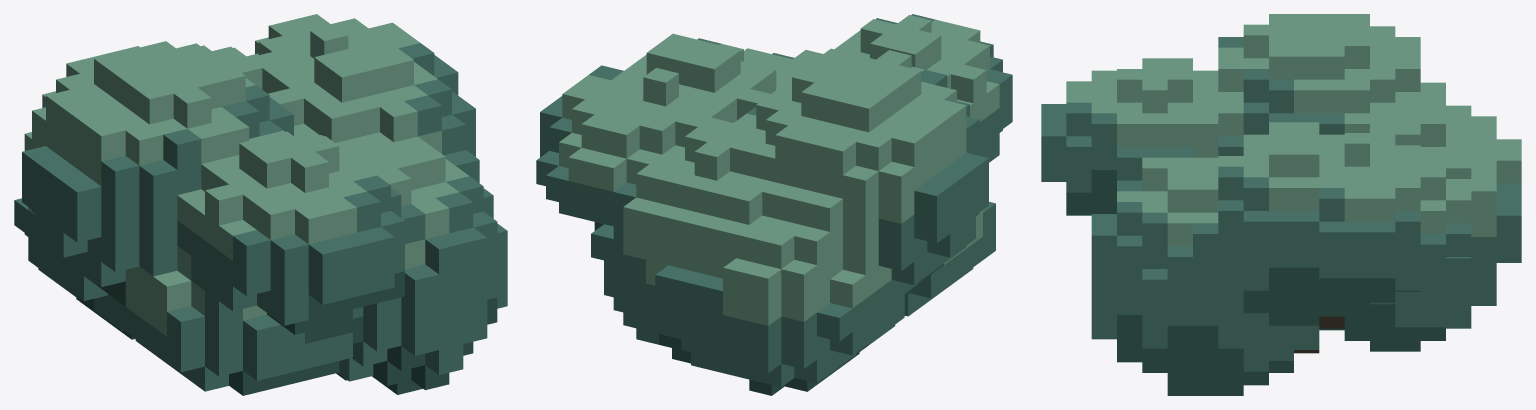
File: dense_bush_v2_mid.glb
The picture shows the model from 3 angles, left to right: view 1: azimuth 30°, elevation 25°; view 2: azimuth 150°, elevation 25°; view 3: azimuth 270°, elevation 25°; orthographic projection. The views are drawn at different scales.
Parts seen in each view (by area): view 1: dense_bush_v2_mid; view 2: dense_bush_v2_mid; view 3: dense_bush_v2_mid.
Part boxes in pixels (bbox=[...]): dense_bush_v2_mid: bbox=[14, 14, 507, 395]; dense_bush_v2_mid: bbox=[536, 14, 1012, 395]; dense_bush_v2_mid: bbox=[1041, 14, 1521, 395].
Size of the model in its own units: 2.12 by 1.5 by 2.38.
Materials: 1 (1 with a texture image).
